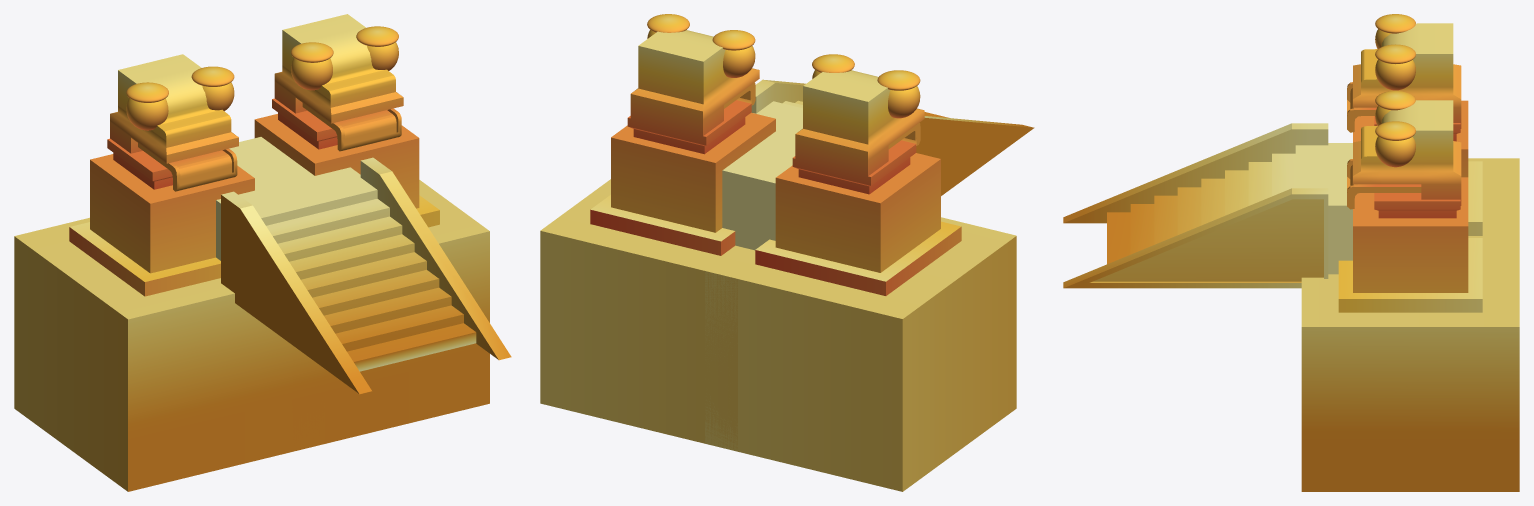
Rendered from Entrance.fbx.
The picture shows the model from 3 angles, left to right: view 1: azimuth 30°, elevation 25°; view 2: azimuth 150°, elevation 25°; view 3: azimuth 270°, elevation 25°; orthographic projection. The views are drawn at different scales.
Visible parts, largest first — view 1: Support.001, Stair, Statue.001, Statue, Support; view 2: Support.001, Support, Statue.001, Statue, Stair; view 3: Support, Stair, Statue, Statue.001, Support.001.
Boxes of the visible parts, bbox=[...] form: Support.001: bbox=[14, 217, 325, 491]; Stair: bbox=[216, 137, 511, 394]; Statue.001: bbox=[69, 54, 254, 296]; Statue: bbox=[254, 14, 439, 227]; Support: bbox=[292, 180, 489, 449]; Support.001: bbox=[705, 217, 1016, 491]; Support: bbox=[540, 179, 756, 451]; Statue.001: bbox=[755, 54, 961, 295]; Statue: bbox=[590, 14, 775, 255]; Stair: bbox=[722, 79, 1034, 250]; Support: bbox=[1301, 235, 1519, 491]; Stair: bbox=[1063, 123, 1352, 288]; Statue: bbox=[1338, 90, 1482, 312]; Statue.001: bbox=[1347, 14, 1482, 235]; Support.001: bbox=[1468, 158, 1519, 250].
Bounding box in the file's own units: 2858 × 2653 × 3263.
